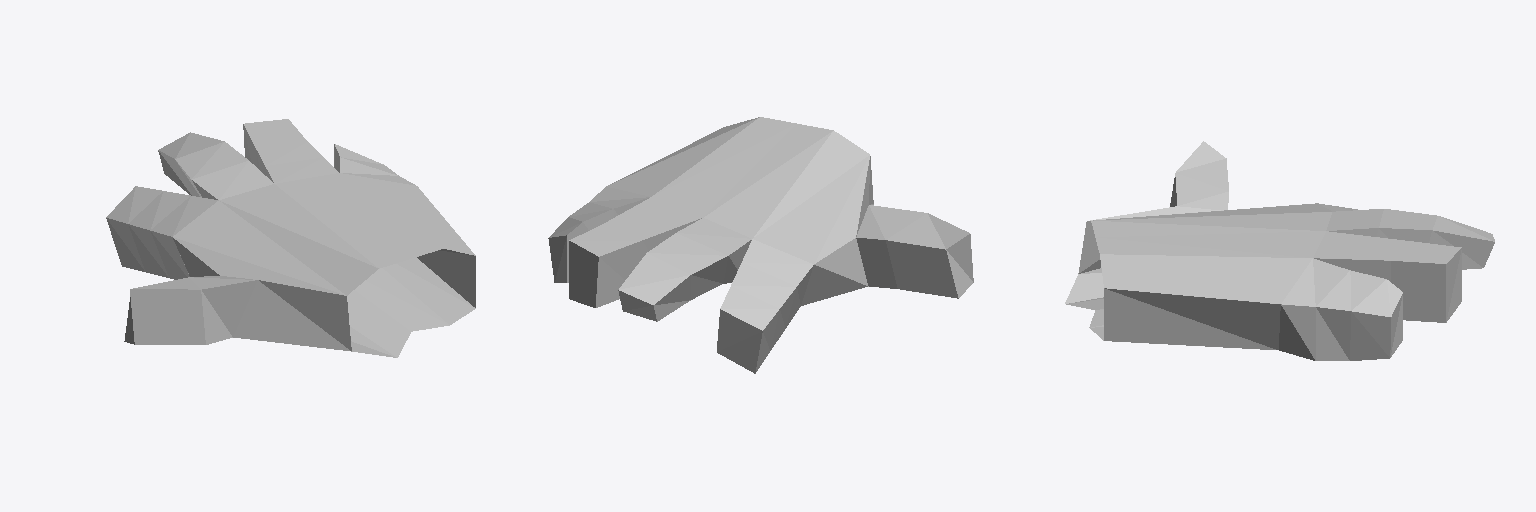
Rendered from Hand for dani charac.obj.
The picture shows the model from 3 angles: view 1: azimuth 30°, elevation 25°; view 2: azimuth 150°, elevation 25°; view 3: azimuth 270°, elevation 25°; orthographic projection.
Visible parts, largest first — view 1: pCube23; view 2: pCube23; view 3: pCube23.
Boxes of the visible parts, x1,y1,x2,y2 form: pCube23: [106, 119, 475, 357]; pCube23: [548, 117, 973, 373]; pCube23: [1065, 141, 1494, 360].
Bounding box in the file's own units: 6.19 × 1.78 × 7.02.